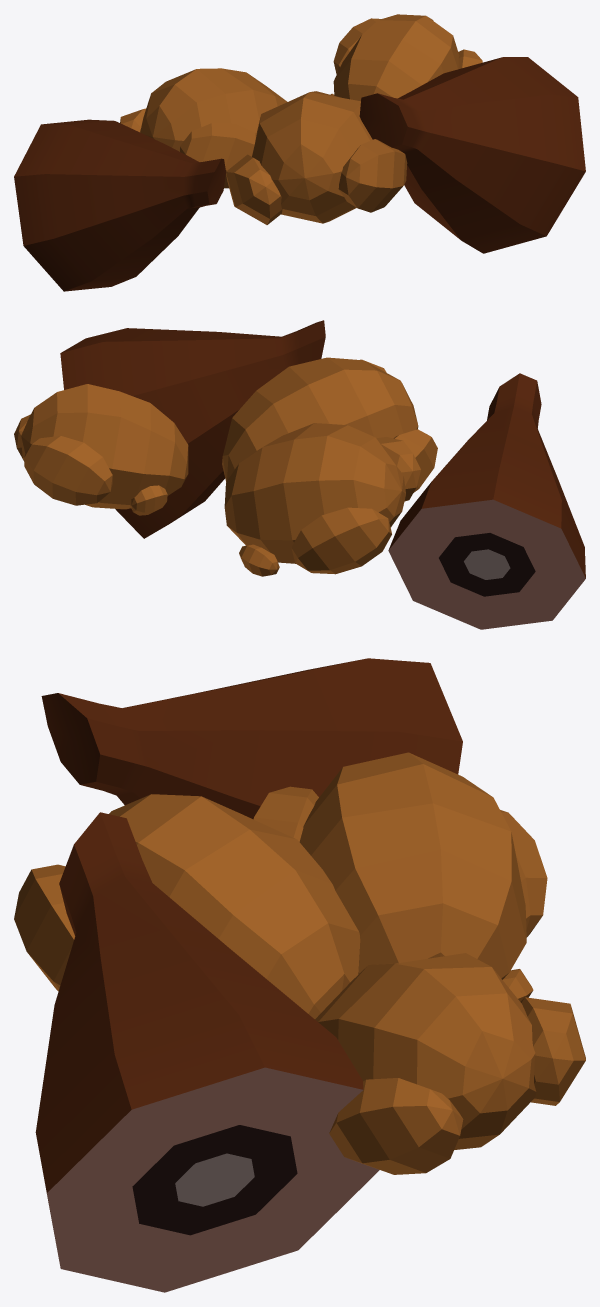
The model's file is SM_FullShelf_MixedMeat.fbx.
The picture shows the model from 3 angles, top to bottom: view 1: azimuth 30°, elevation 25°; view 2: azimuth 150°, elevation 25°; view 3: azimuth 270°, elevation 25°; orthographic projection. The views are drawn at different scales.
Parts seen in each view (by area): view 1: SM_Ham3; view 2: SM_Ham3; view 3: SM_Ham3.
Part boxes in pixels (box(x1,y1,x2,y2)): SM_Ham3: box(14, 14, 585, 291); SM_Ham3: box(14, 320, 585, 629); SM_Ham3: box(14, 658, 585, 1292).
Size of the model in its own units: 1.23 by 0.474 by 0.663.
